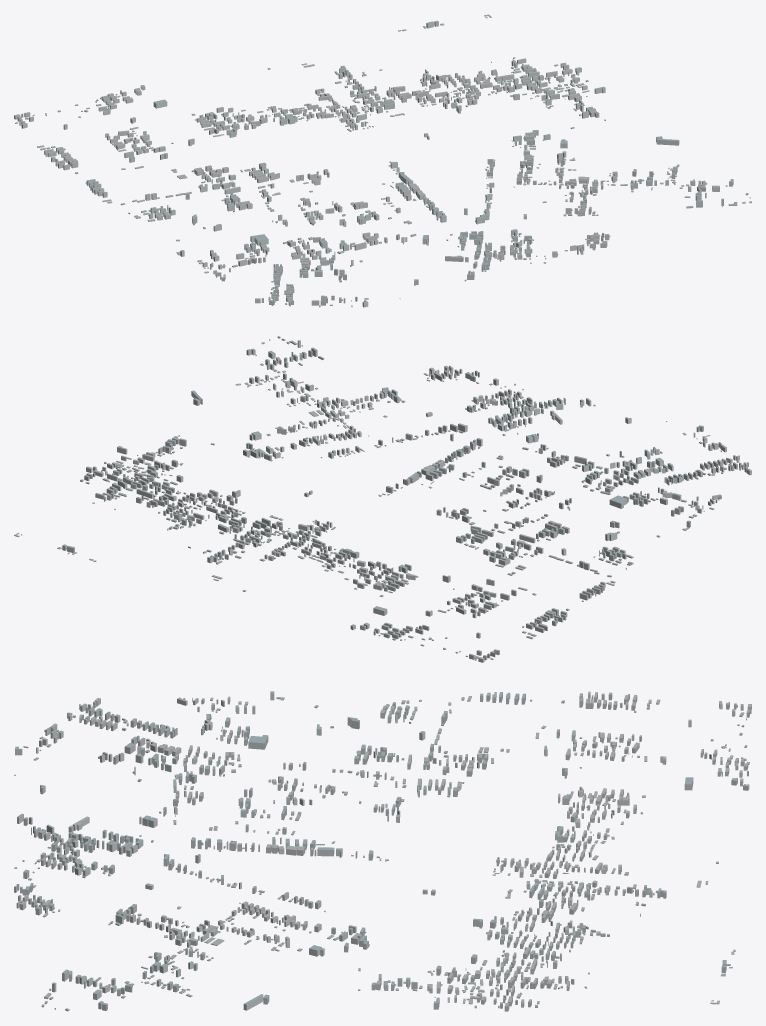
Rendered from far.glb.
3 views of the same model, one above another, from view 1: azimuth 30°, elevation 25°; view 2: azimuth 150°, elevation 25°; view 3: azimuth 270°, elevation 25° (orthographic). The views are drawn at different scales.
Size of the model in its own units: 2103 by 25.9 by 2082.
